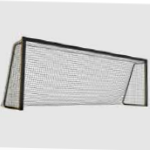goals: (2, 35, 150, 114)
